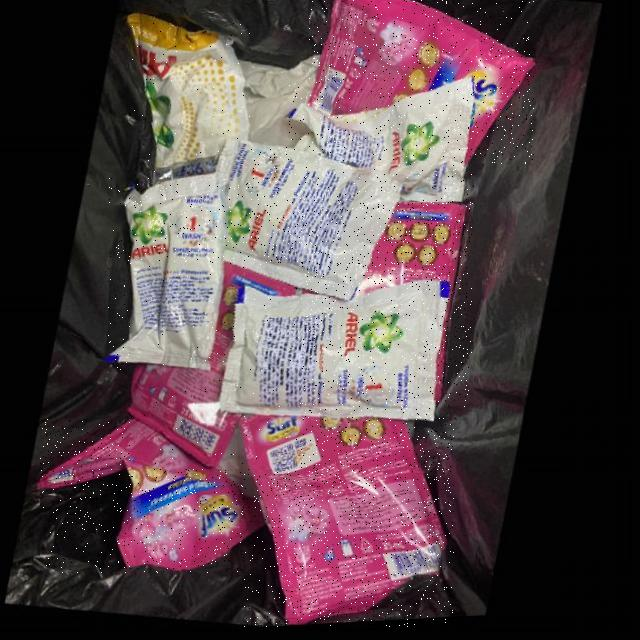wrapper: (245, 415, 454, 627), (310, 0, 534, 164), (41, 420, 272, 573), (132, 263, 301, 469), (225, 286, 456, 425), (228, 145, 405, 305), (109, 175, 231, 372), (289, 82, 475, 208), (360, 202, 472, 407), (128, 14, 251, 183)
